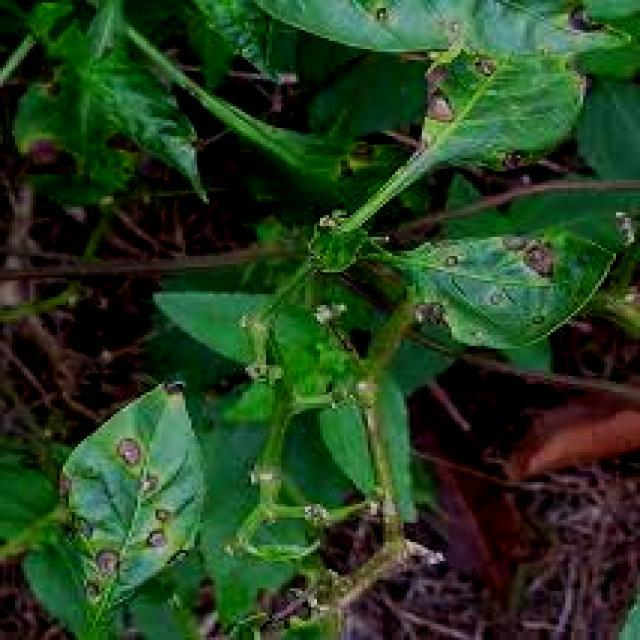Bercak Daun Serkospora: (396, 12, 628, 178), (58, 382, 202, 622), (394, 230, 610, 350)
